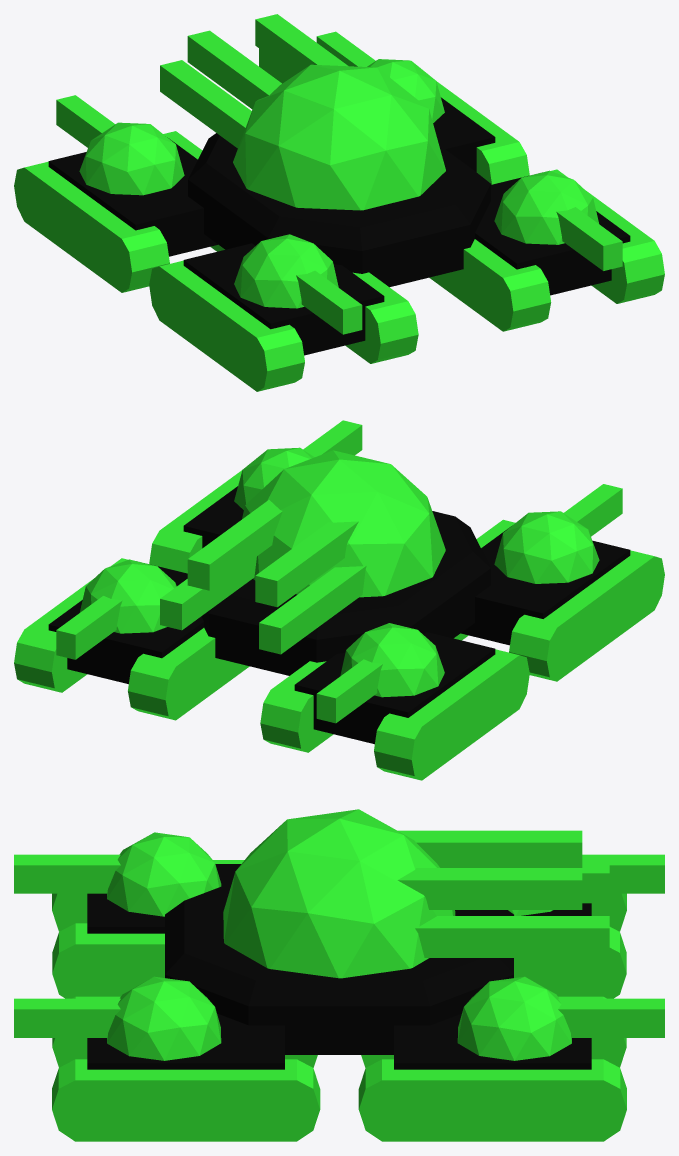
Rendered from giantUnit.fbx.
3 views of the same model, one above another, from view 1: azimuth 30°, elevation 25°; view 2: azimuth 150°, elevation 25°; view 3: azimuth 270°, elevation 25° (orthographic). The views are drawn at different scales.
Parts seen in each view (by area): view 1: Icosphere; view 2: Icosphere; view 3: Icosphere.
Boxes of the visible parts, box(x1,y1,x2,y2) form: Icosphere: box(14, 14, 664, 391); Icosphere: box(14, 420, 664, 780); Icosphere: box(14, 809, 664, 1141).
Size of the model in its own units: 8.04 by 3.62 by 10.04.
Materials: 1 (1 with a texture image).
